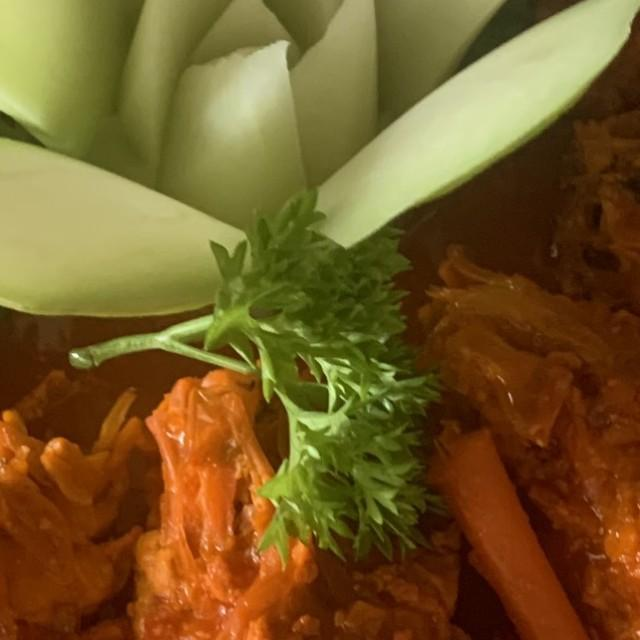tom: (114, 361, 635, 640), (398, 231, 640, 640)
